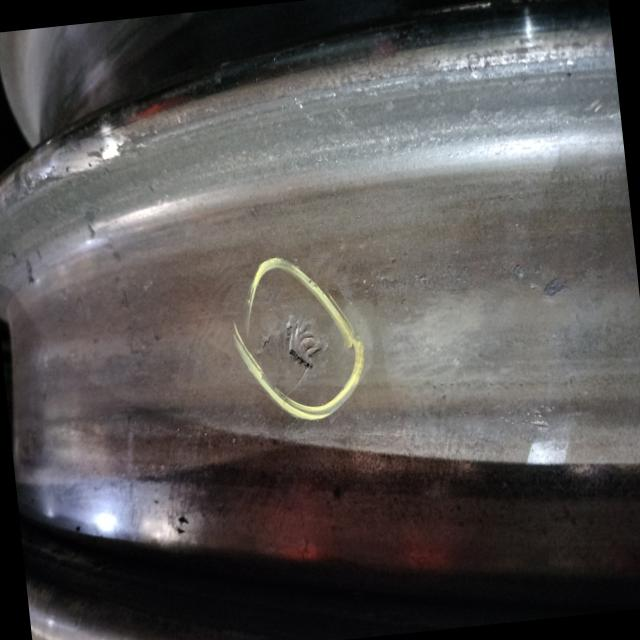Blue hole: (254, 300, 331, 381)
